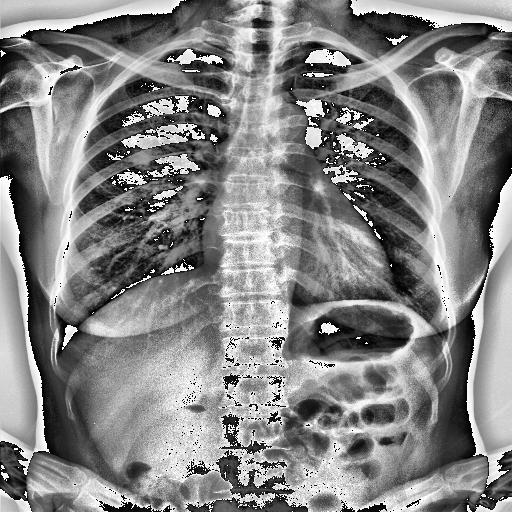13- Pulmonary fibrosis: (126, 143, 154, 169)
7- Lung Opacity: (126, 147, 154, 165), (126, 149, 150, 166)
